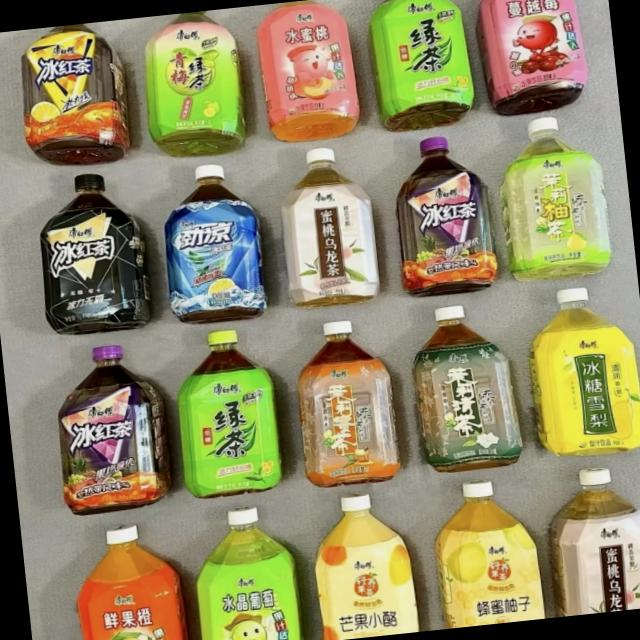bottle: (52, 339, 184, 520), (493, 110, 618, 286), (33, 167, 157, 336), (168, 322, 286, 498), (405, 298, 523, 474), (526, 282, 640, 462), (292, 314, 404, 492), (155, 158, 269, 324), (389, 130, 499, 298), (14, 20, 135, 172), (428, 477, 546, 629), (306, 490, 421, 640), (137, 8, 250, 160), (277, 143, 384, 303), (254, 0, 364, 149), (182, 503, 299, 640), (543, 460, 640, 617), (68, 517, 191, 640), (366, 0, 477, 133), (476, 0, 595, 112)
